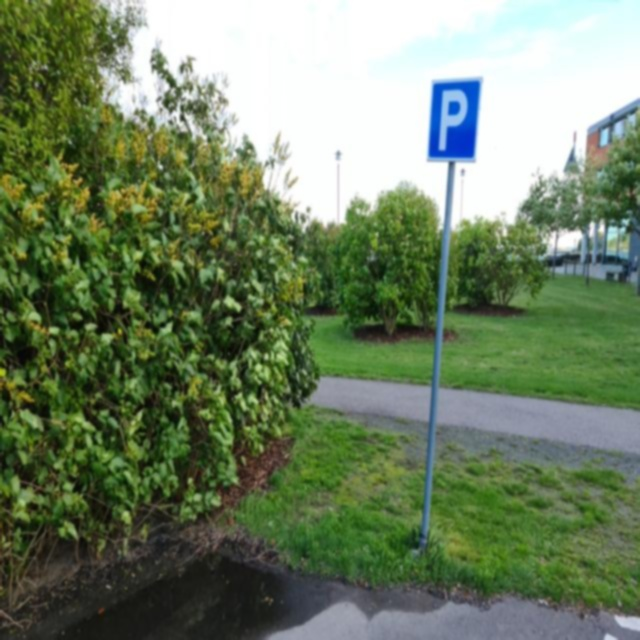P-skylt: (429, 77, 478, 163)
